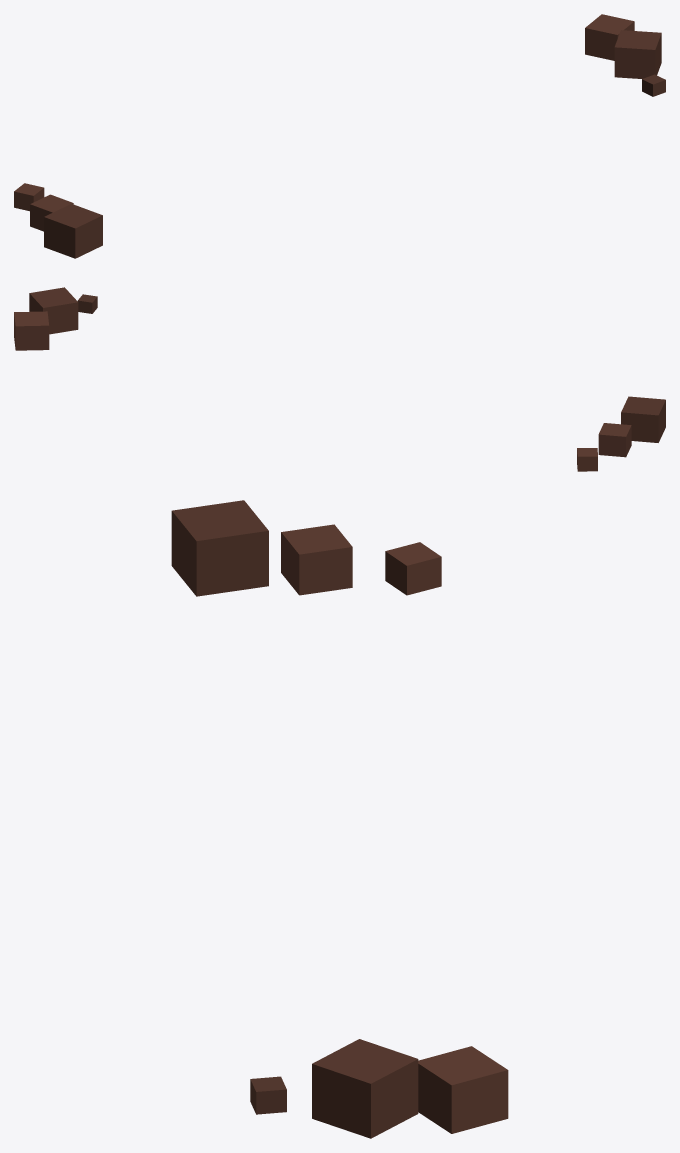
The model's file is tube_mouth_lip_detail1.glb.
3 views of the same model, one above another, from view 1: azimuth 30°, elevation 25°; view 2: azimuth 150°, elevation 25°; view 3: azimuth 270°, elevation 25° (orthographic). The views are drawn at different scales.
Parts seen in each view (by area): view 1: tube_mouth_lip_detail1; view 2: tube_mouth_lip_detail1; view 3: tube_mouth_lip_detail1.
Part boxes in pixels (x1,y1,x2,y2): tube_mouth_lip_detail1: (14,14,665,258); tube_mouth_lip_detail1: (14,287,665,471); tube_mouth_lip_detail1: (171,500,508,1138).
Bounding box in the file's own units: 19.06 × 0.8449 × 4.65.
